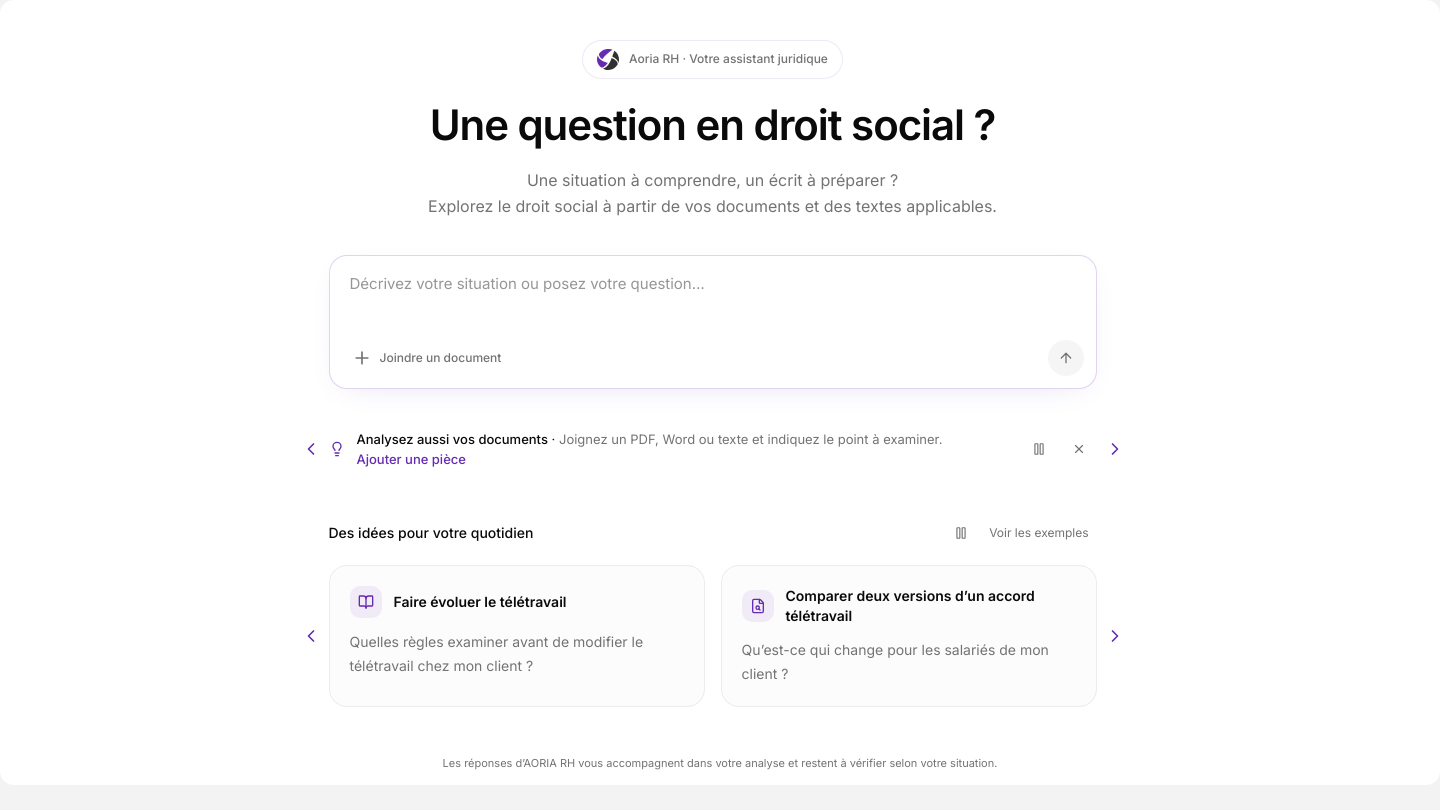
Test: shows the input, rotating ideas, then two carousel cards for consultant_rh
This screenshot has width=1440, height=810.
Click the button "Faire évoluer le télétravail". click: (516, 636)
box: [328,565,704,707]
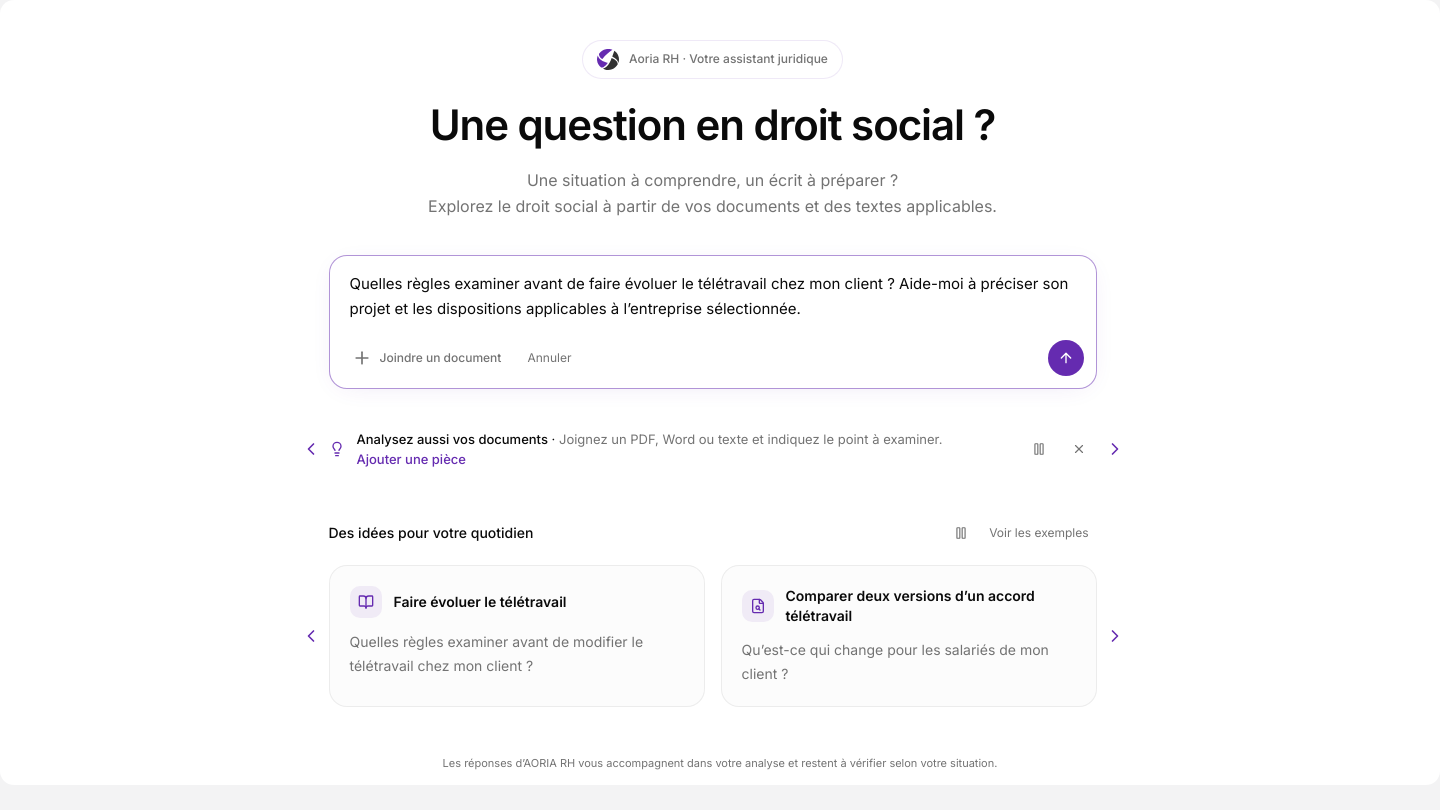
Check: the text box is not empty, box [330,256,1096,336]
